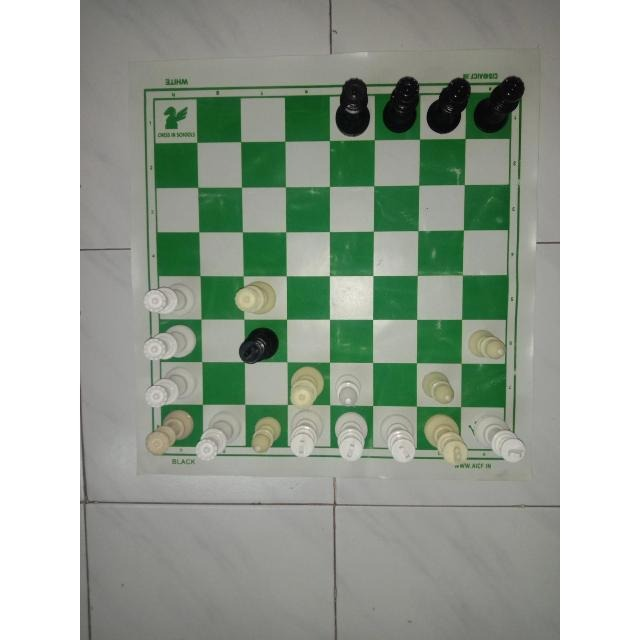black-king: (237, 324, 287, 363)
black-queen: (470, 72, 527, 135), (332, 74, 378, 143), (424, 76, 473, 140), (380, 73, 422, 143)
white-bishop: (464, 324, 510, 364), (417, 368, 461, 407), (247, 410, 283, 456), (330, 372, 366, 412)
white-king: (466, 411, 527, 467), (419, 412, 471, 468), (332, 407, 370, 467), (379, 412, 419, 468), (287, 407, 325, 461)
white-queen: (138, 408, 196, 460), (196, 408, 248, 464), (137, 280, 200, 321), (139, 320, 200, 362), (140, 367, 201, 407), (233, 276, 281, 317), (287, 362, 328, 410)
